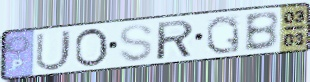B: (243, 10, 281, 53)
O: (74, 27, 110, 69)
Q: (204, 14, 242, 56)
R: (155, 18, 196, 61)
S: (117, 23, 155, 64)
U: (34, 28, 74, 72)
